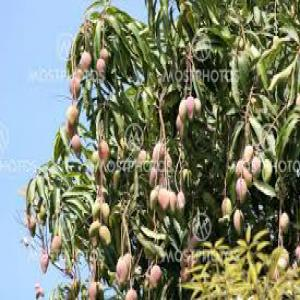Tree: (21, 3, 292, 297)
